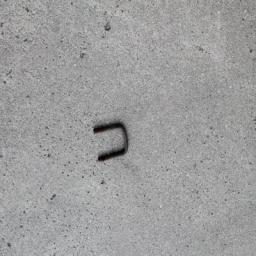FOD: (92, 119, 134, 164)
